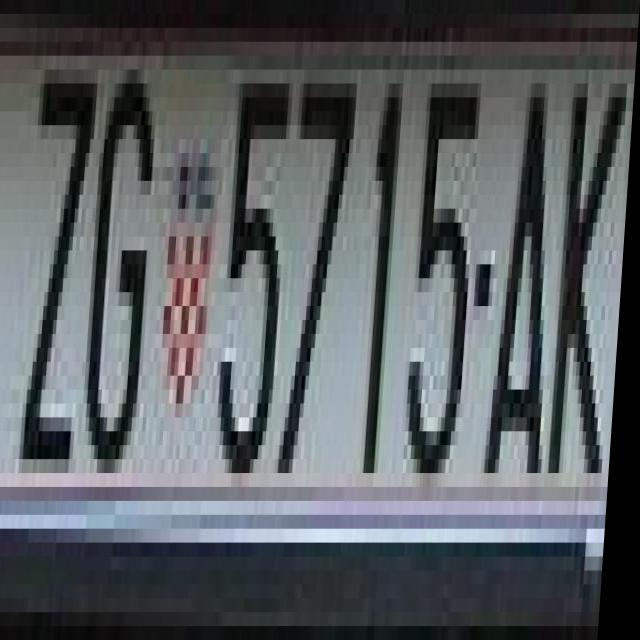1: (355, 70, 412, 488)
5: (404, 70, 483, 488), (213, 56, 292, 473)
7: (280, 56, 360, 487)
A: (487, 56, 573, 473)
G: (86, 42, 162, 460)
K: (551, 84, 632, 474)
Z: (18, 42, 97, 460)
